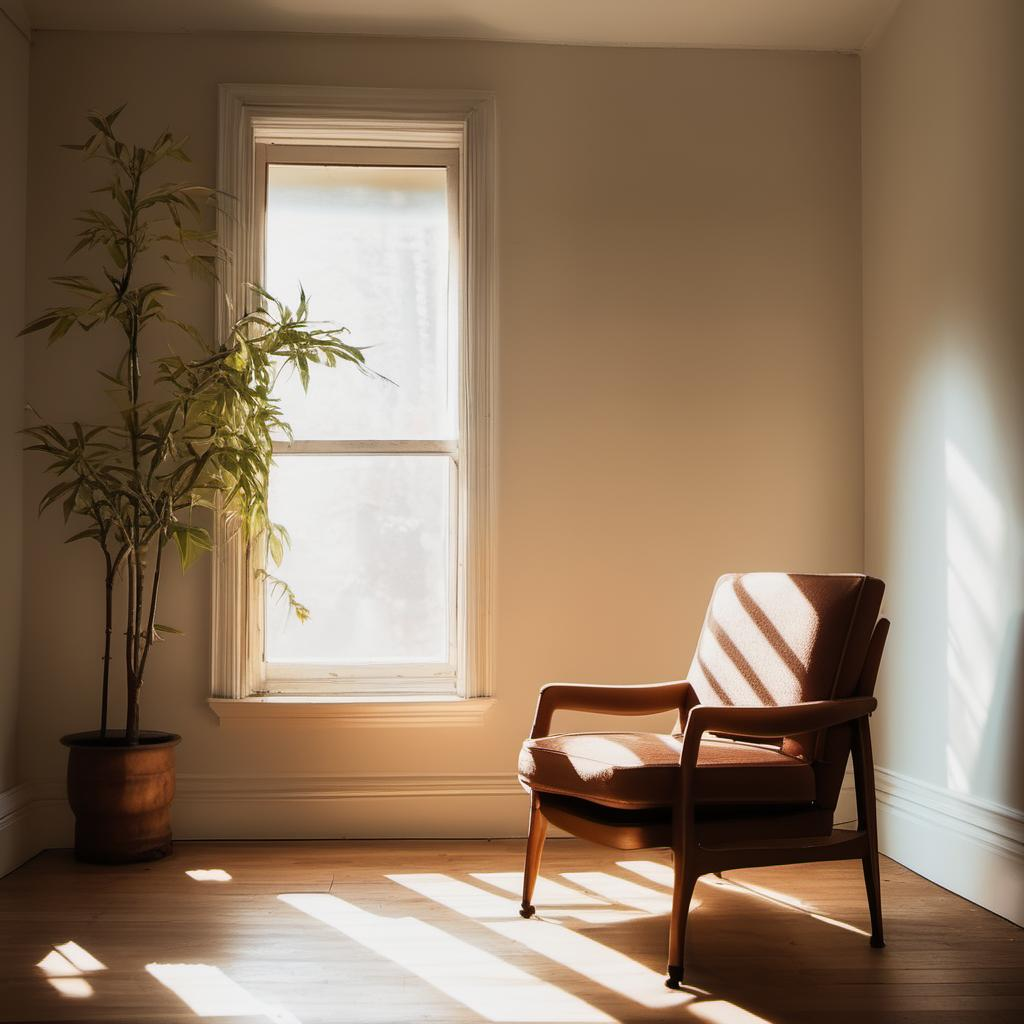chair_new: (510, 572, 898, 990)
